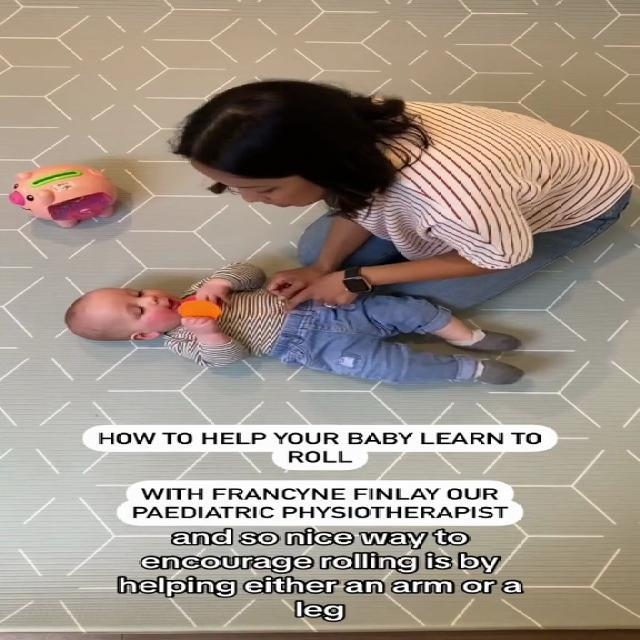baby: (63, 258, 537, 392)
